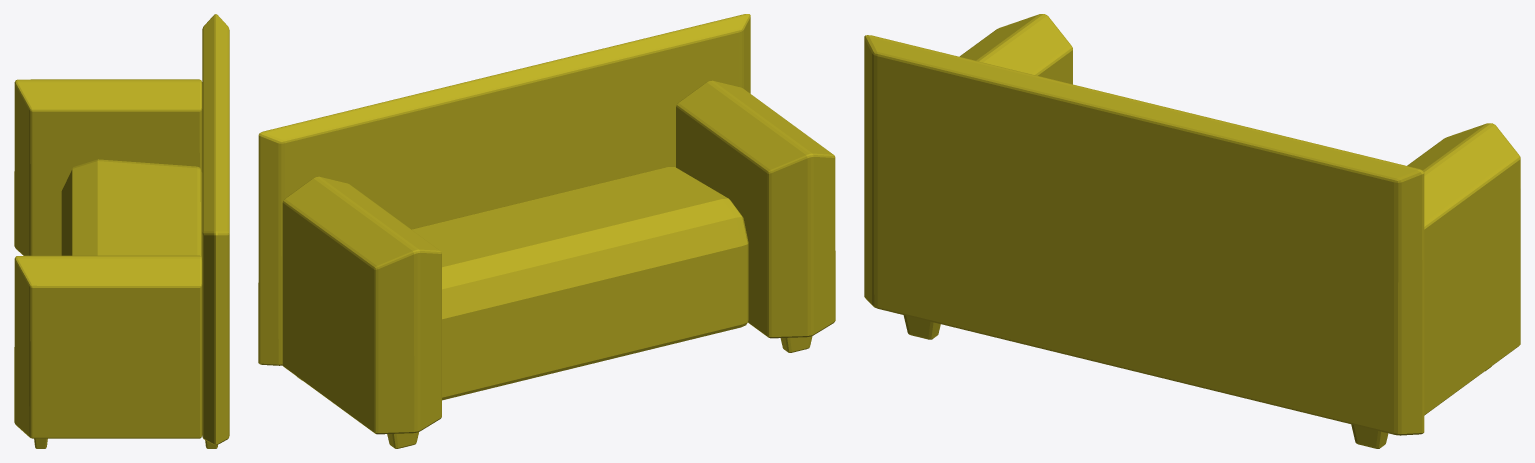
Rendered from sofa.fbx.
The picture shows the model from 3 angles, left to right: view 1: azimuth 30°, elevation 25°; view 2: azimuth 150°, elevation 25°; view 3: azimuth 270°, elevation 25°; orthographic projection. The views are drawn at different scales.
Visible parts, largest first — view 1: sofa3; view 2: sofa3; view 3: sofa3.
Boxes of the visible parts, bbox=[...] form: sofa3: bbox=[14, 14, 229, 448]; sofa3: bbox=[258, 14, 835, 448]; sofa3: bbox=[864, 14, 1520, 448].
Bounding box in the file's own units: 2.06 × 1.27 × 2.62.
